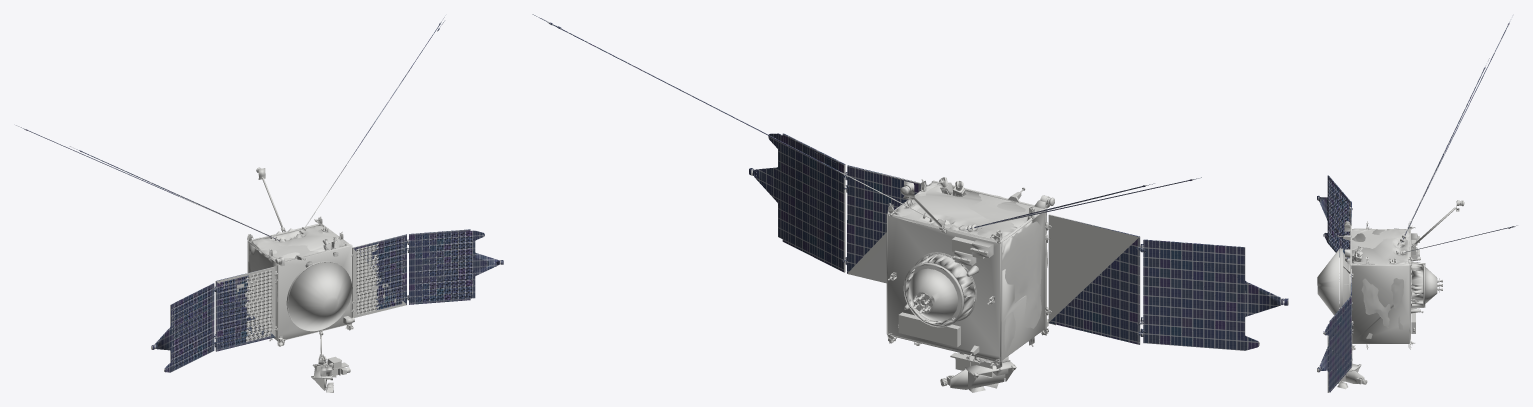
File: maven.glb
The picture shows the model from 3 angles, left to right: view 1: azimuth 30°, elevation 25°; view 2: azimuth 150°, elevation 25°; view 3: azimuth 270°, elevation 25°; orthographic projection. The views are drawn at different scales.
Visible parts, largest first — view 1: MAVEN; view 2: MAVEN; view 3: MAVEN.
Part boxes in pixels (<box>): MAVEN: <box>16,17,503,392</box>; MAVEN: <box>532,14,1288,392</box>; MAVEN: <box>1317,22,1517,392</box>.
Bounding box in the file's own units: 11.4 × 6.51 × 4.55.
2 materials, 1 textured.
